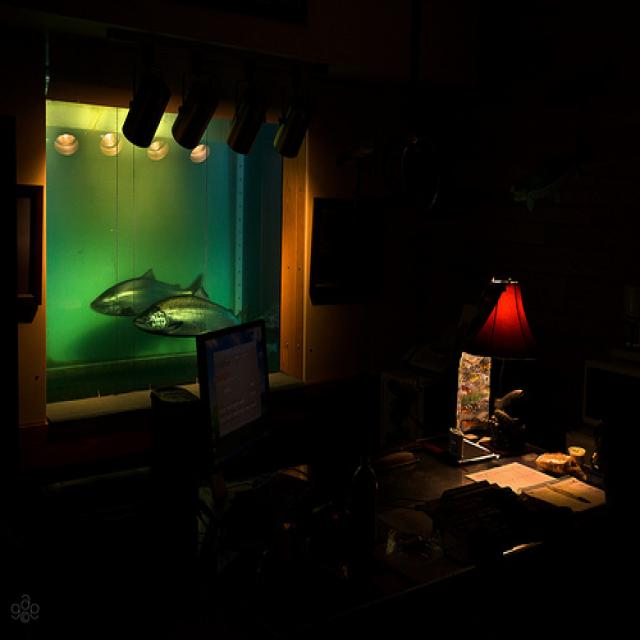Table: (34, 457, 638, 640)
